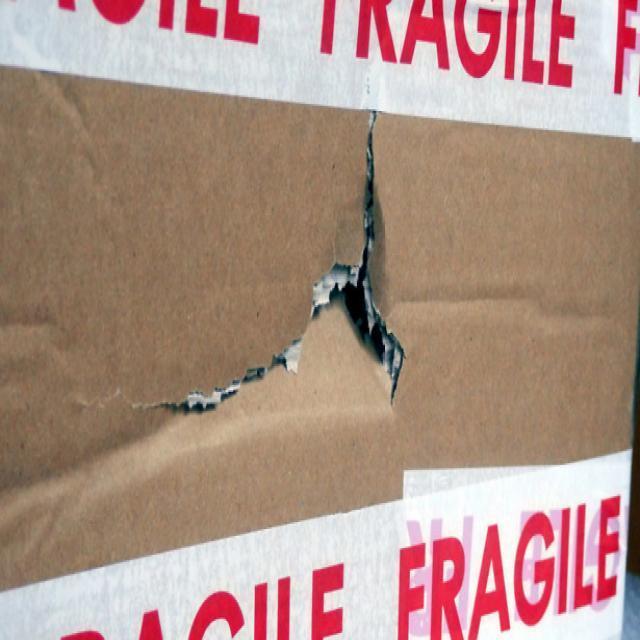damaged: (170, 141, 419, 420)
